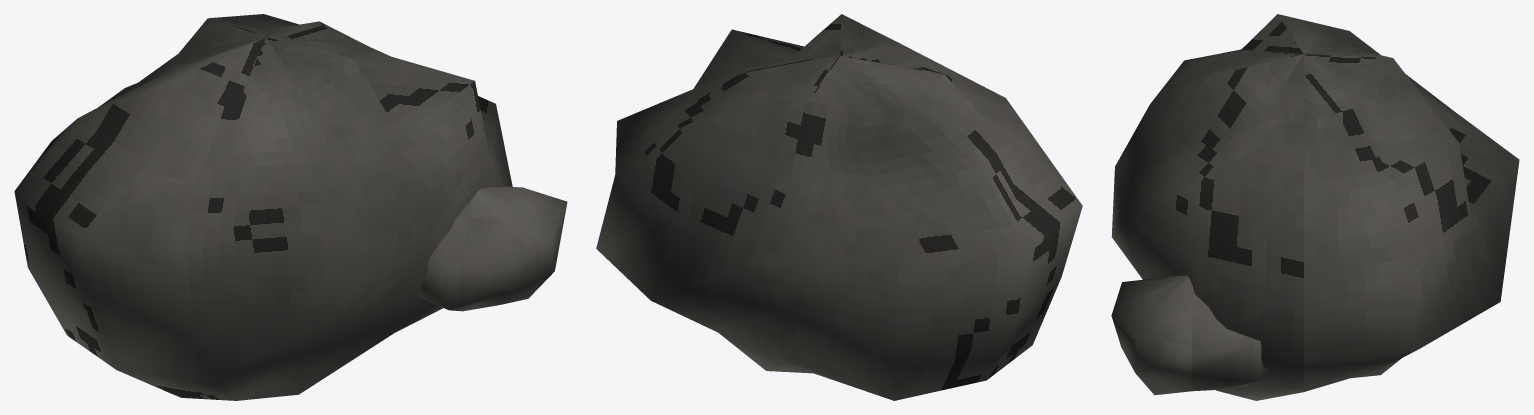
Rendered from ext_boulder.glb.
3 renders of one model, left to right at view 1: azimuth 30°, elevation 25°; view 2: azimuth 150°, elevation 25°; view 3: azimuth 270°, elevation 25°, orthographic. The views are drawn at different scales.
Visible parts, largest first — view 1: rock-col; view 2: rock-col; view 3: rock-col.
Part boxes in pixels (x1=…): rock-col: x1=14, y1=14, x2=567, y2=400; rock-col: x1=596, y1=14, x2=1082, y2=400; rock-col: x1=1111, y1=14, x2=1519, y2=400.
Bounding box in the file's own units: 2.88 × 1.93 × 2.2.
Materials: 1 (1 with a texture image).
